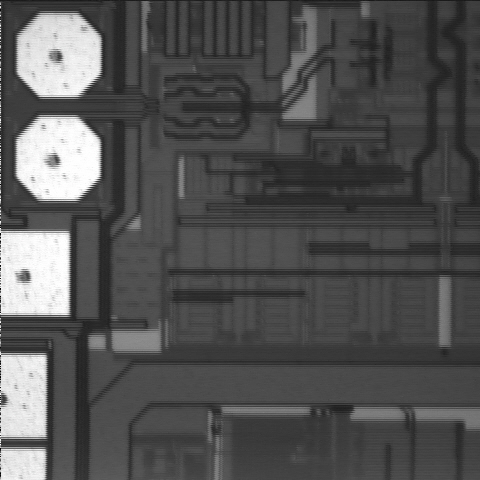pad: (18, 15, 101, 97), (17, 117, 100, 199)
